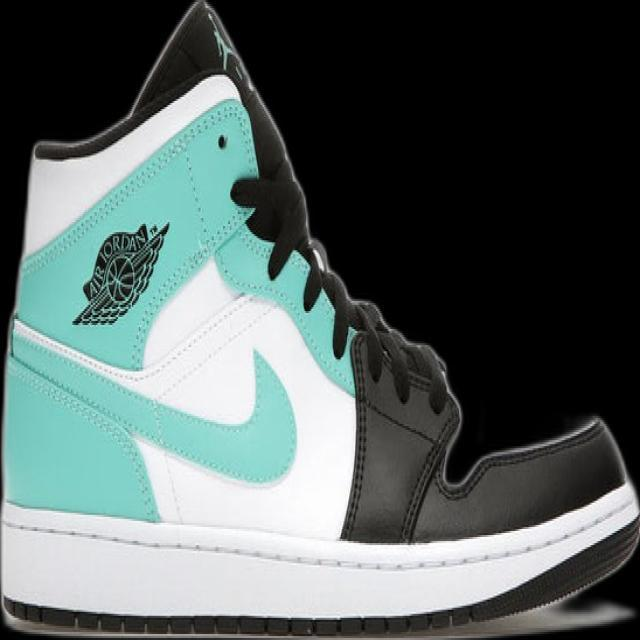J1_InsoleChar: (0, 0, 639, 639)
J1_ShoeLogo: (70, 220, 170, 327)
J1_StitchPattern: (203, 3, 452, 414), (0, 493, 638, 633), (227, 174, 448, 404), (6, 314, 163, 516), (339, 301, 459, 544), (1, 595, 635, 639), (298, 236, 453, 414), (349, 299, 451, 413), (396, 417, 454, 546), (298, 237, 360, 357), (338, 327, 372, 542), (200, 0, 247, 82)
